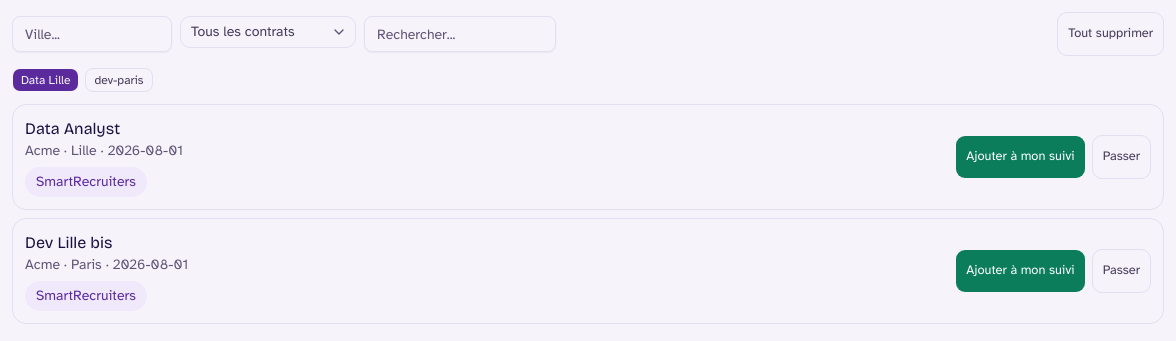
it: ReviewQueueManager › filtre par campagne (JOB-154) › still combines the (server-scoped) offers with the client-side city filter
The width and height of the screenshot is (1176, 341).
Type "Paris" into the field named "Filtrer par ville" at (92, 34), box x1=12 y1=16 x2=172 y2=52
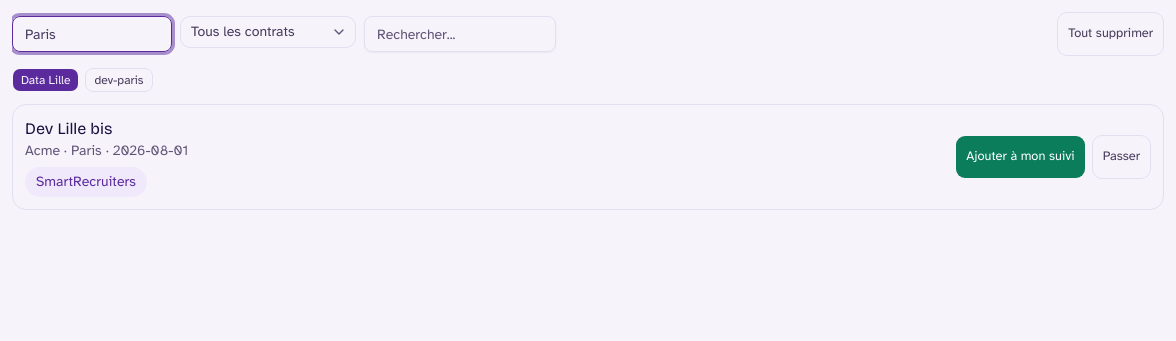
Expected: the link "Dev Lille bis" is shown, x1=25 y1=119 x2=112 y2=138
Now the link "Data Analyst" is gone
